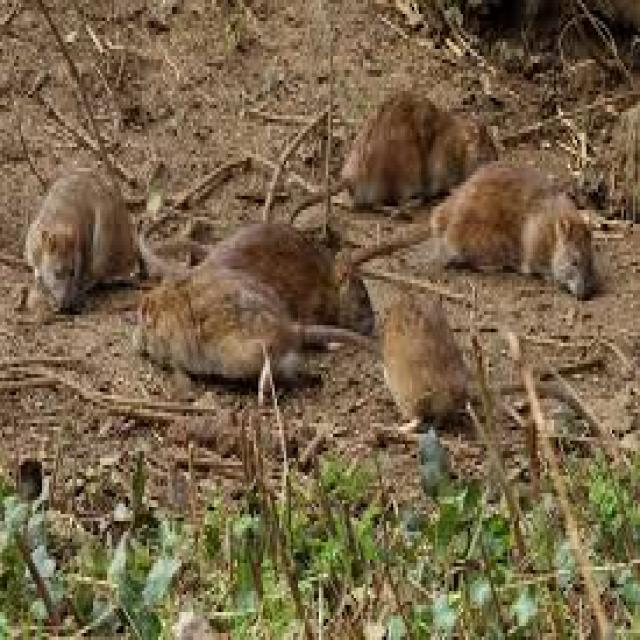rat: (412, 158, 600, 298), (335, 87, 482, 210), (21, 161, 140, 311), (374, 286, 482, 434)
